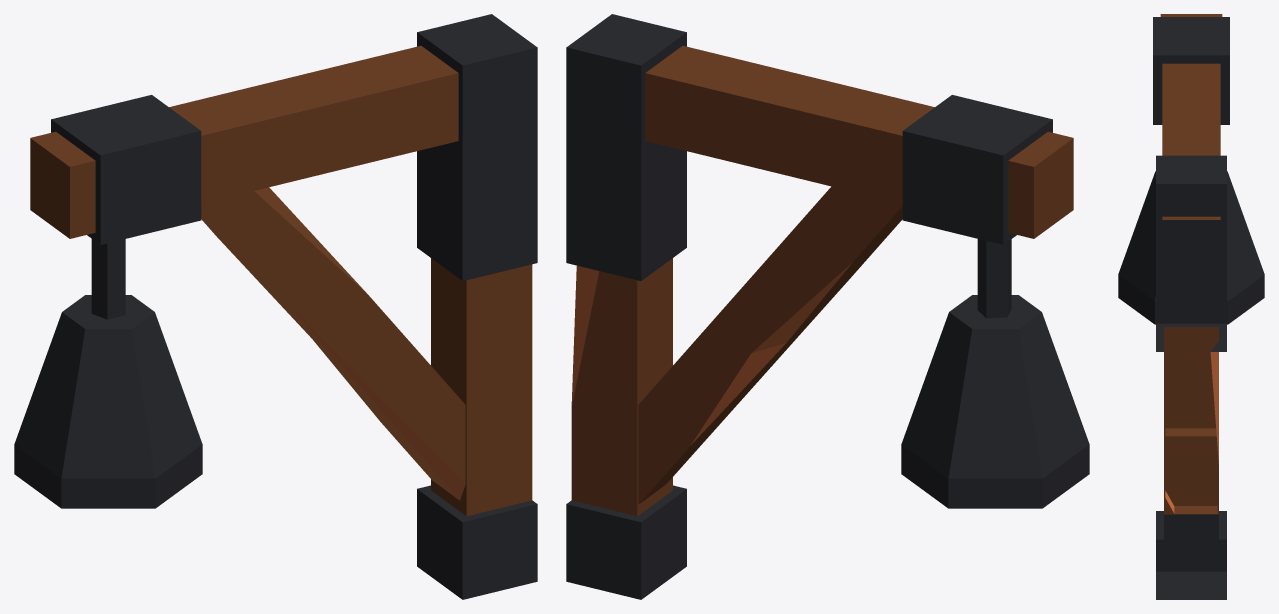
The model's file is Lamp_2_1.fbx.
3 views of the same model, side by side, from view 1: azimuth 30°, elevation 25°; view 2: azimuth 150°, elevation 25°; view 3: azimuth 270°, elevation 25° (orthographic). The views are drawn at different scales.
Visible parts, largest first — view 1: Lamp_2_1; view 2: Lamp_2_1; view 3: Lamp_2_1.
Part boxes in pixels (x1,y1,x2,y2): Lamp_2_1: (14, 14, 537, 599); Lamp_2_1: (566, 14, 1089, 599); Lamp_2_1: (1118, 14, 1264, 599).
Bounding box in the file's own units: 43.29 × 46.38 × 14.8.
